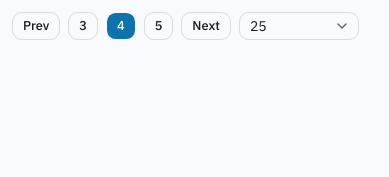
PaginationControls › includes the current pageSize even when it is not a default option
Step 1. Click the dropdown named "Rows per page" → (299, 26), box [239, 12, 359, 40]
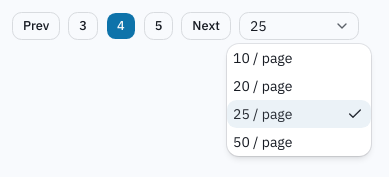
expect the option "25 / page" is shown: met, box [227, 100, 371, 128]
